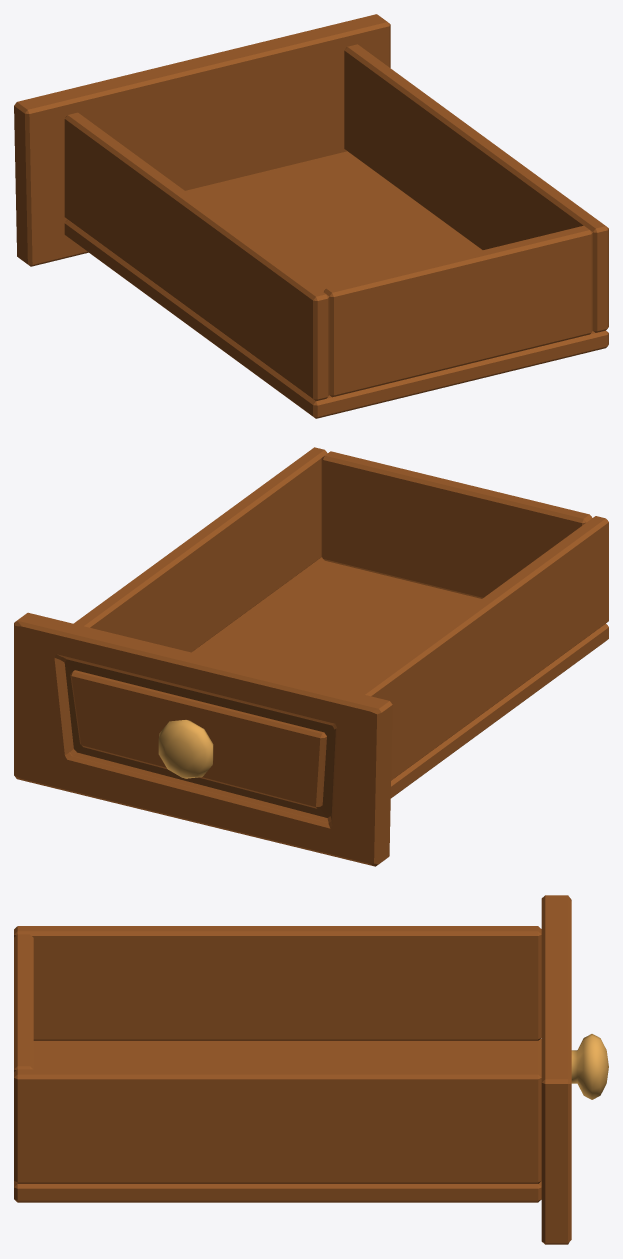
File: Teacher_desk_3.fbx
The picture shows the model from 3 angles, top to bottom: view 1: azimuth 30°, elevation 25°; view 2: azimuth 150°, elevation 25°; view 3: azimuth 270°, elevation 25°; orthographic projection. The views are drawn at different scales.
Visible parts, largest first — view 1: Teacher_desk_3; view 2: Teacher_desk_3; view 3: Teacher_desk_3.
Boxes of the visible parts, x1,y1,x2,y2 form: Teacher_desk_3: (14,14,608,418); Teacher_desk_3: (14,447,608,866); Teacher_desk_3: (14,895,608,1244).
Bounding box in the file's own units: 0.5299 × 0.2184 × 0.712.
